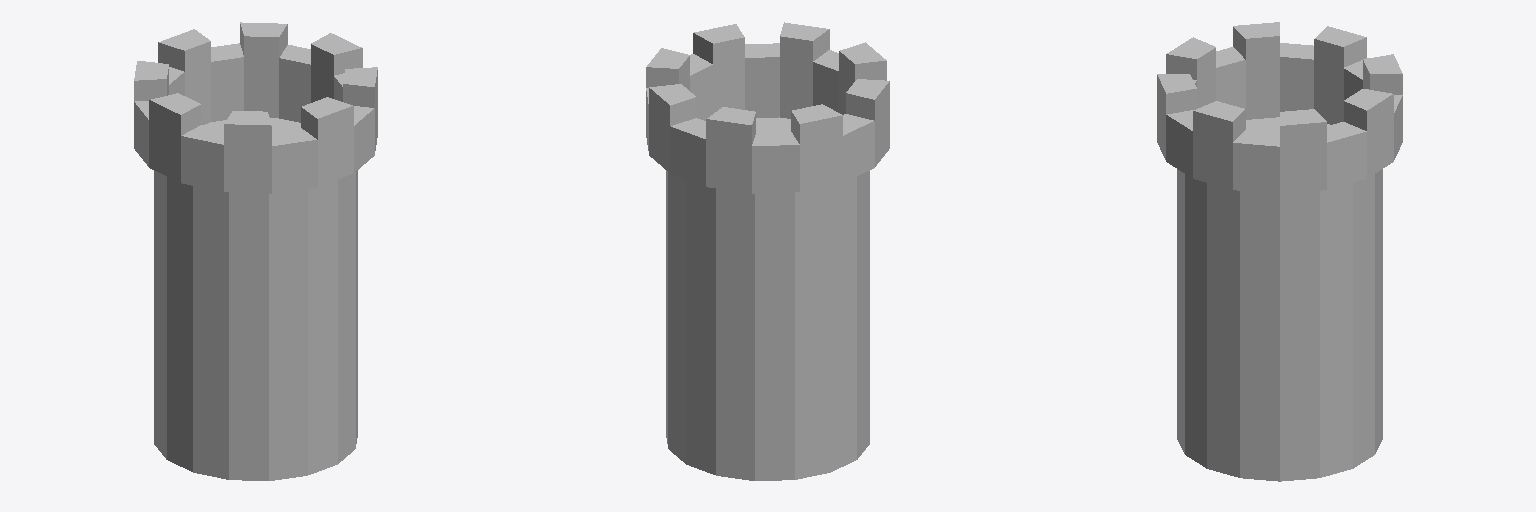
Rendered from castle_tower.obj.
The picture shows the model from 3 angles: view 1: azimuth 30°, elevation 25°; view 2: azimuth 150°, elevation 25°; view 3: azimuth 270°, elevation 25°; orthographic projection.
Visible parts, largest first — view 1: pCylinder1_Untitled; view 2: pCylinder1_Untitled; view 3: pCylinder1_Untitled.
Boxes of the visible parts, x1,y1,x2,y2 form: pCylinder1_Untitled: [134, 22, 377, 480]; pCylinder1_Untitled: [646, 22, 889, 480]; pCylinder1_Untitled: [1157, 22, 1402, 481].
Bounding box in the file's own units: 0.6379 × 1.04 × 0.6379.